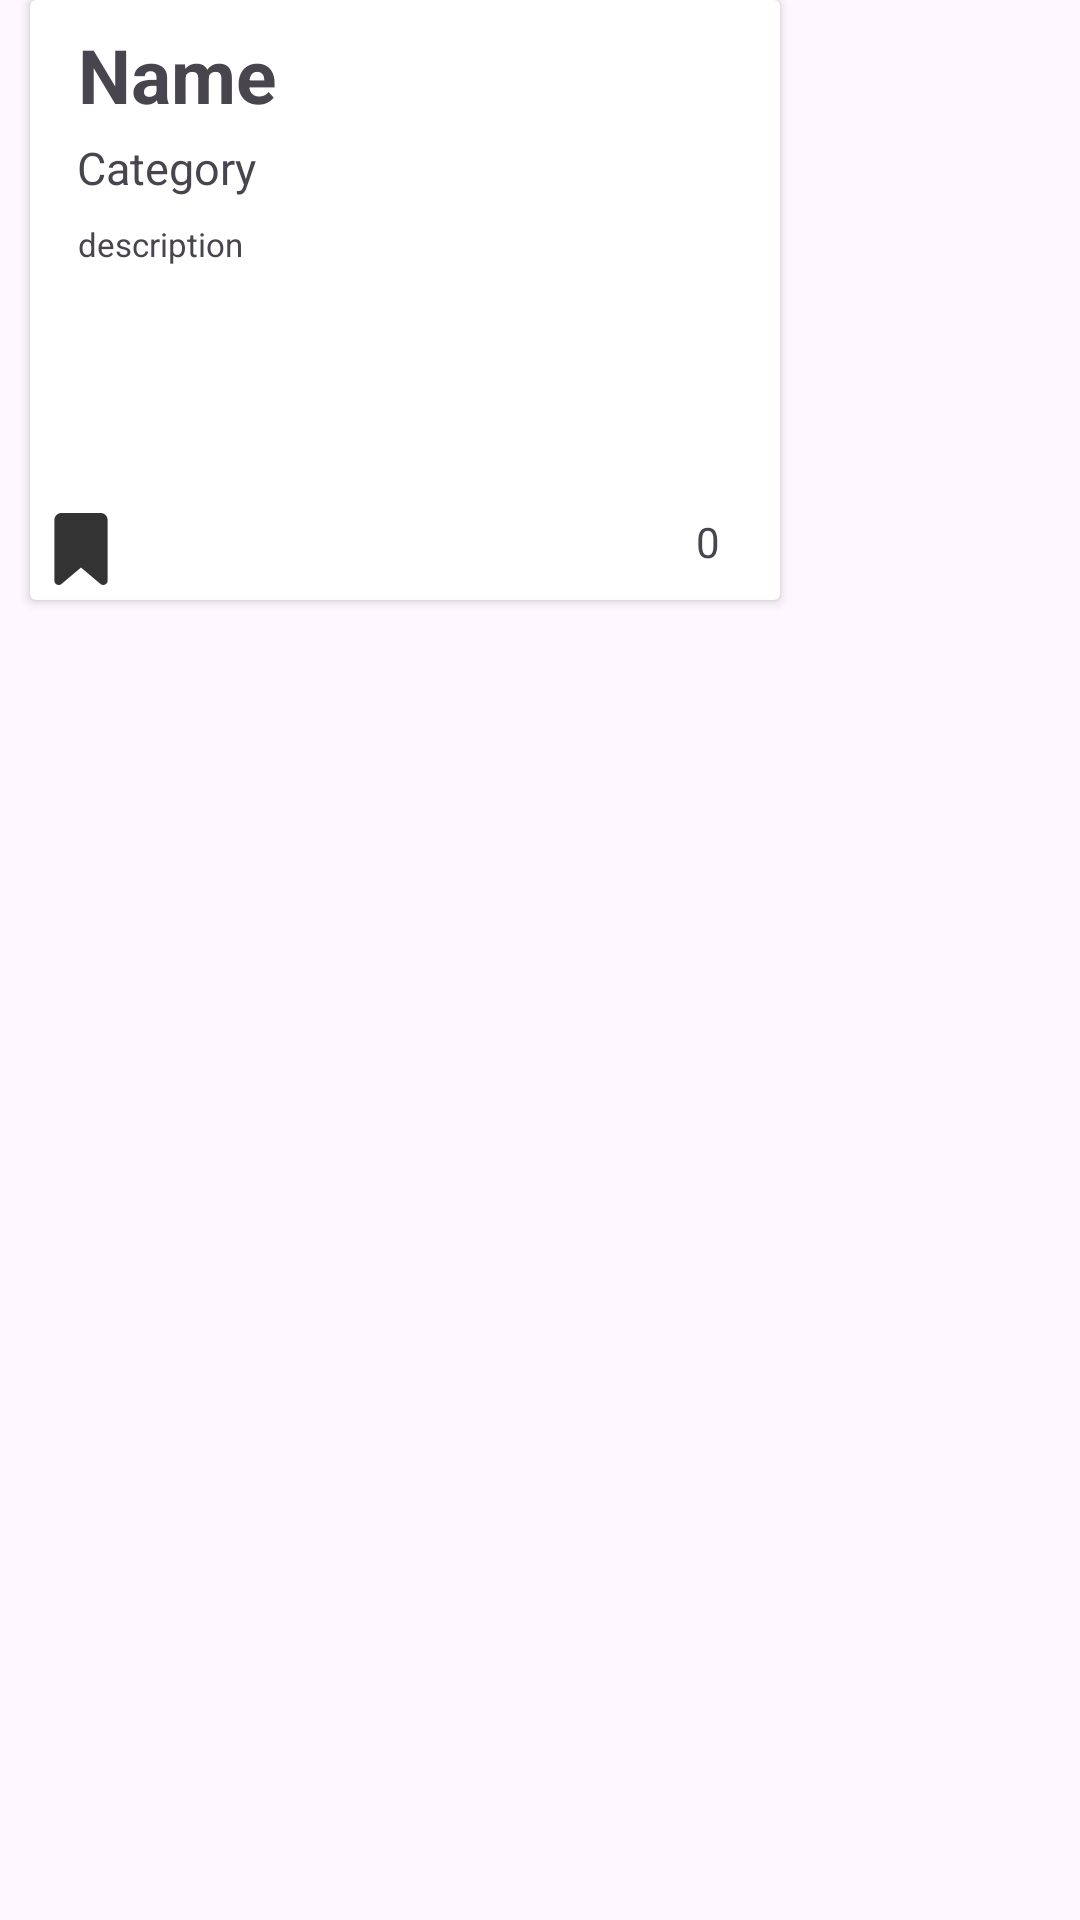

Where to tap for icons on this 1080px x 1920px app screen, as point (x, y):
bookmark: point (81, 549)
